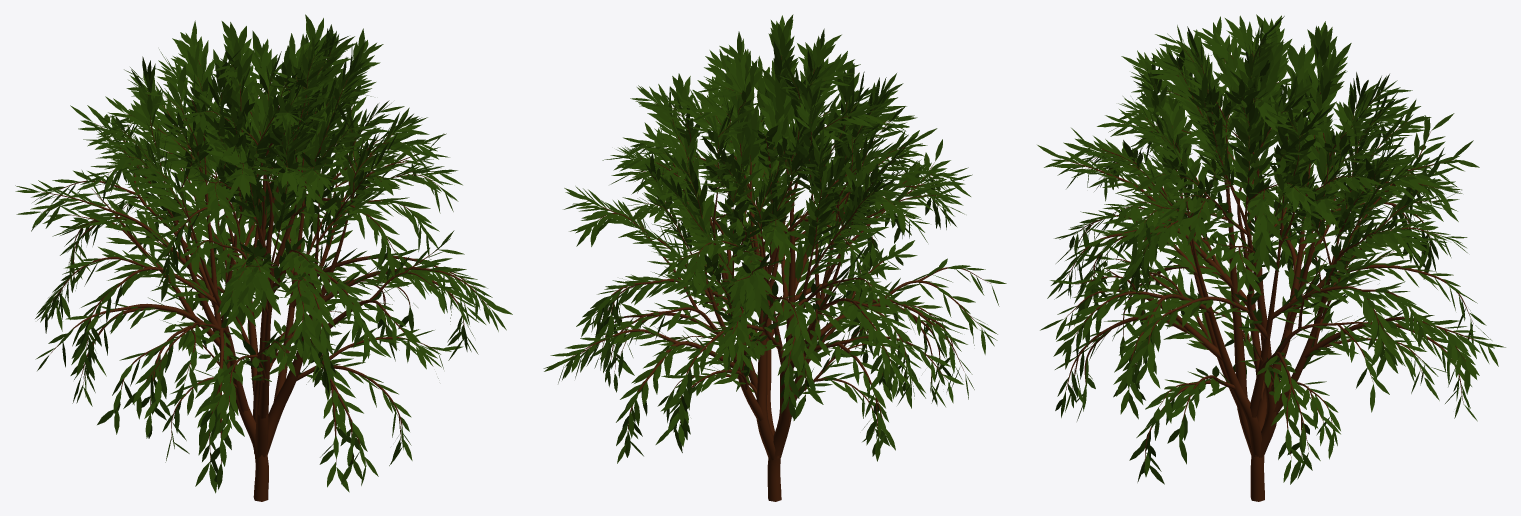
The model's file is tree.obj.
The picture shows the model from 3 angles, left to right: view 1: azimuth 30°, elevation 25°; view 2: azimuth 150°, elevation 25°; view 3: azimuth 270°, elevation 25°; orthographic projection. The views are drawn at different scales.
Visible parts, largest first — view 1: leaves, tree; view 2: leaves, tree; view 3: leaves, tree.
Part boxes in pixels (box(x1,y1,x2,y2)): leaves: box(15, 14, 512, 493); tree: box(40, 52, 490, 501); leaves: box(543, 14, 1006, 463); tree: box(565, 55, 990, 501); leaves: box(1037, 14, 1505, 484); tree: box(1063, 39, 1474, 501).
Size of the model in its own units: 5.78 by 6.82 by 6.05.
